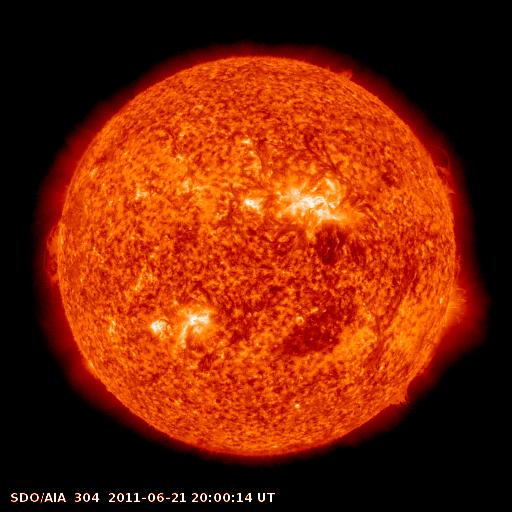prominence: (424, 142, 469, 207), (40, 223, 74, 285), (381, 381, 418, 414), (337, 60, 362, 84)
